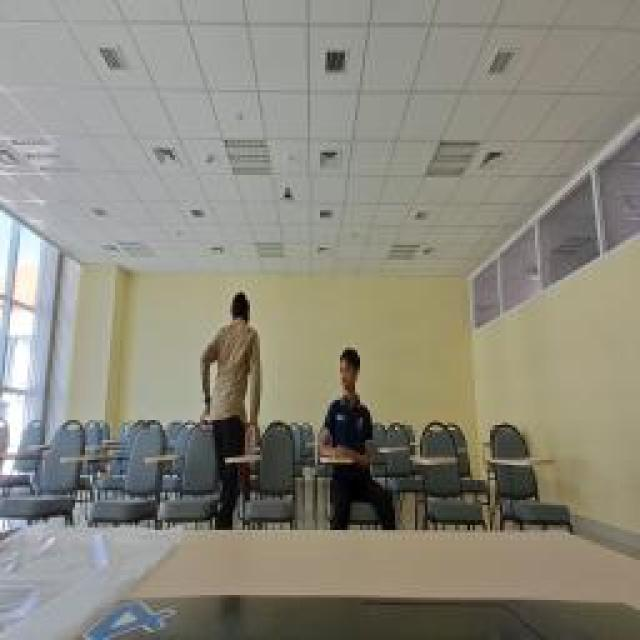study: (317, 343, 395, 535)
